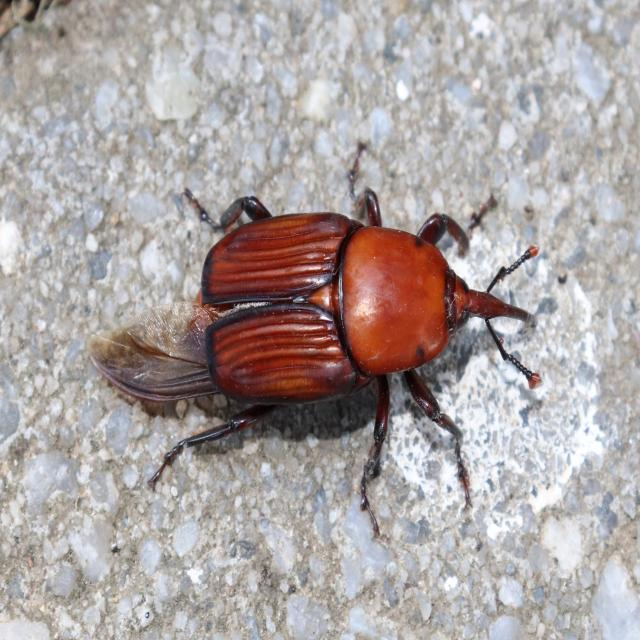Red-palm-weevil: (188, 169, 566, 515)
